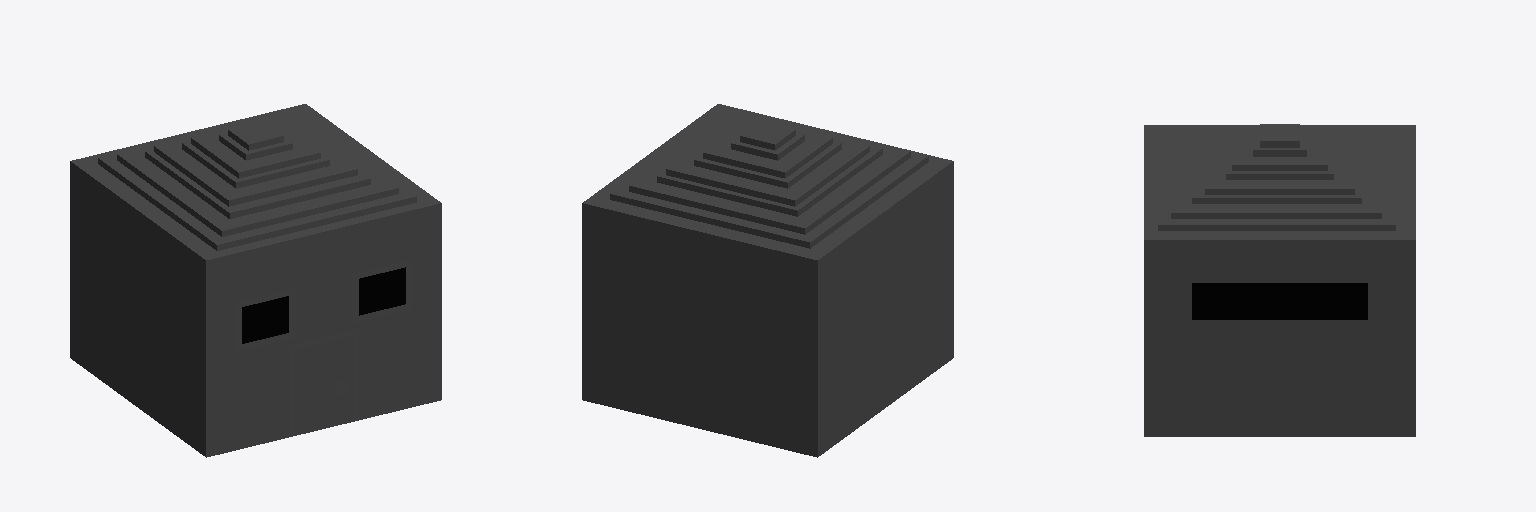
3 renders of one model, left to right at view 1: azimuth 30°, elevation 25°; view 2: azimuth 150°, elevation 25°; view 3: azimuth 270°, elevation 25°, orthographic.
Parts seen in each view (by area): view 1: object 1; view 2: object 1; view 3: object 1.
Part boxes in pixels (left/top/right/bottom): object 1: left=70, top=104, right=441, bottom=457; object 1: left=582, top=104, right=953, bottom=457; object 1: left=1144, top=124, right=1415, bottom=436.
Bounding box in the file's own units: 4 × 4 × 4.
Materials: 1 (1 with a texture image).